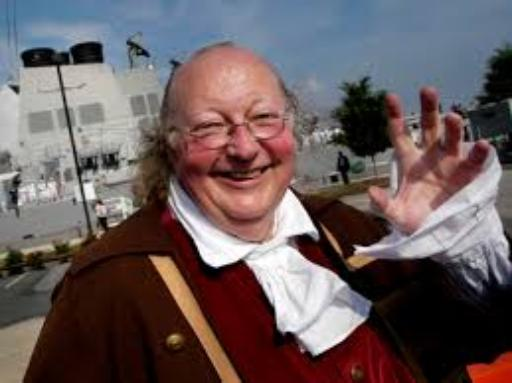left_eye: (254, 113, 279, 122)
left_lip_corner: (266, 160, 282, 172)
right_eye: (190, 123, 221, 132)
right_lip_corner: (208, 167, 221, 182)
